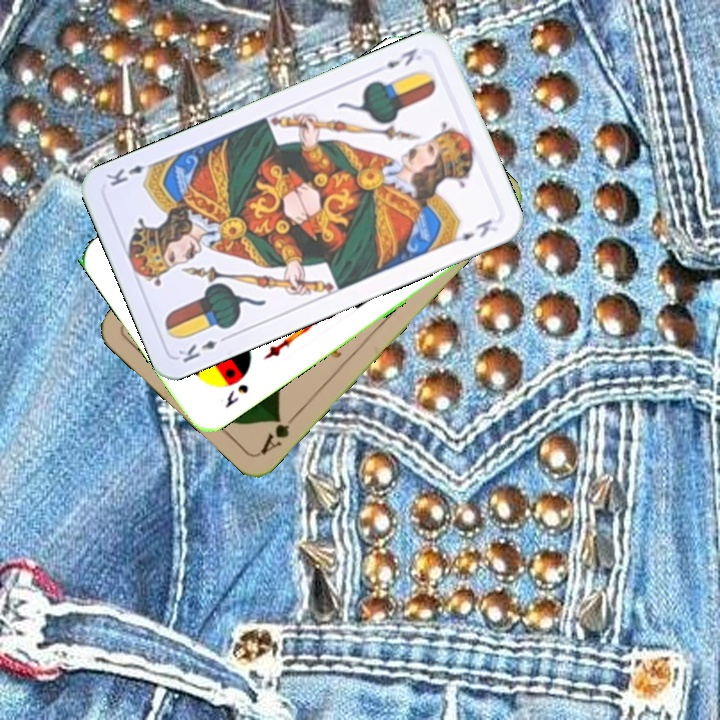EK: (174, 331, 232, 366), (382, 43, 420, 71)
GA: (256, 408, 302, 457)
SK: (221, 380, 252, 411)
